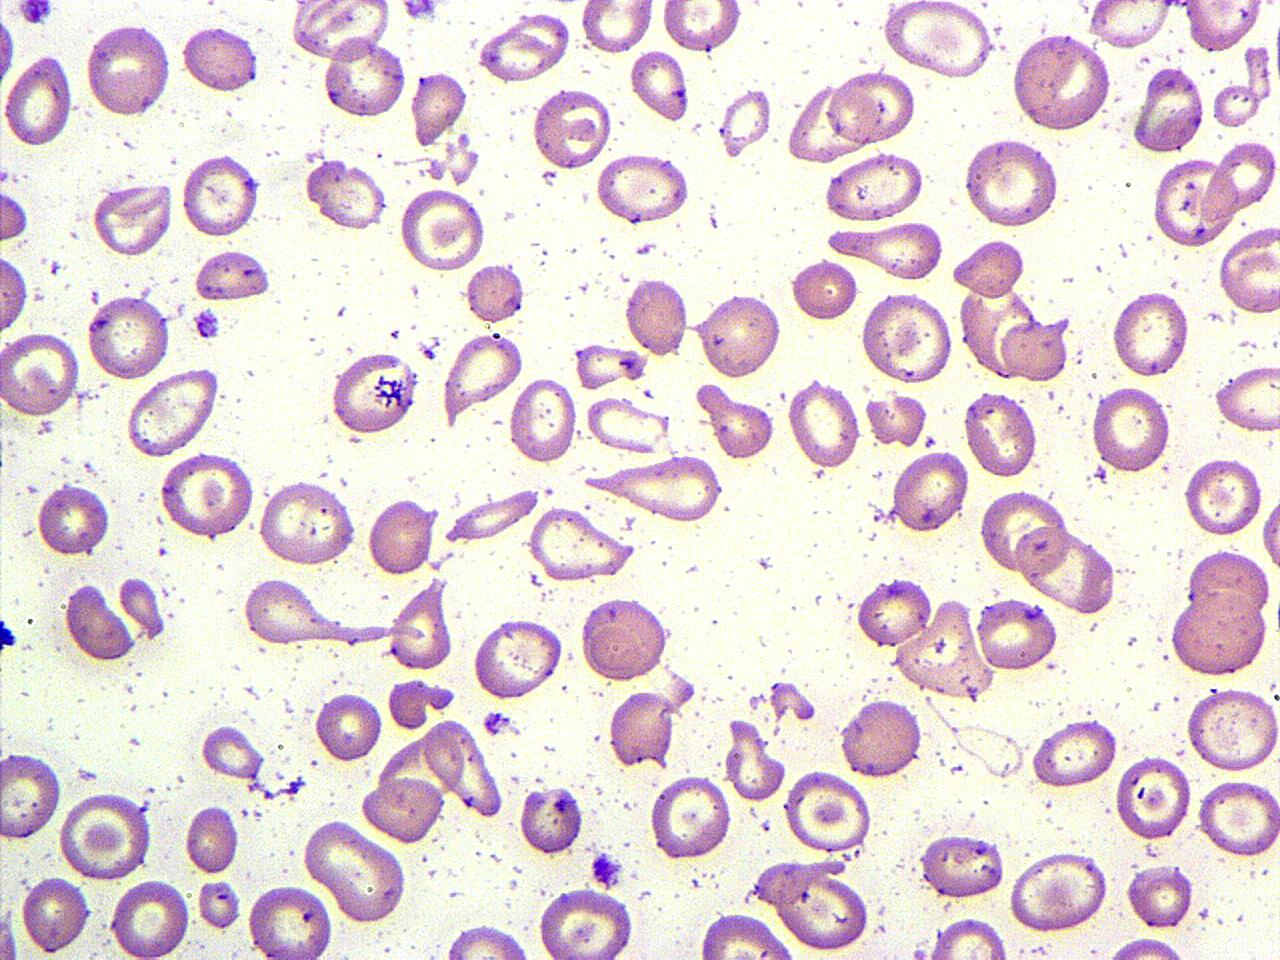Platelets: (190, 306, 223, 341), (590, 852, 620, 887), (15, 0, 54, 26), (480, 708, 513, 738), (398, 0, 439, 23), (0, 618, 18, 652), (634, 241, 656, 256), (290, 774, 308, 789)
RBC: (1011, 29, 1113, 133), (961, 135, 1062, 230), (1013, 522, 1117, 614), (315, 822, 408, 924), (859, 289, 955, 386), (256, 478, 359, 568), (898, 598, 990, 698), (125, 366, 221, 460), (158, 449, 256, 541), (84, 19, 172, 120), (1008, 846, 1110, 934), (880, 1, 995, 79), (1169, 592, 1271, 679), (56, 790, 152, 880), (601, 456, 722, 526), (774, 868, 872, 955), (577, 595, 670, 685), (1185, 684, 1279, 773), (471, 614, 563, 704), (526, 506, 634, 583), (398, 184, 488, 274), (976, 488, 1068, 576), (1152, 154, 1236, 250), (328, 351, 421, 436), (85, 292, 173, 381), (782, 768, 874, 854), (648, 771, 733, 864), (441, 328, 526, 419), (698, 289, 782, 382), (1109, 288, 1193, 379), (1089, 382, 1171, 474), (0, 326, 81, 419), (821, 150, 925, 223), (534, 886, 636, 960), (594, 150, 692, 226), (836, 697, 924, 781), (962, 386, 1040, 480), (1195, 774, 1280, 861), (179, 150, 261, 240), (1114, 753, 1194, 844), (321, 35, 406, 120), (240, 576, 340, 648), (476, 9, 572, 84), (2, 48, 74, 149), (786, 376, 863, 470), (109, 874, 193, 960), (1182, 453, 1264, 541), (89, 178, 175, 260), (891, 446, 971, 534), (530, 87, 612, 172), (245, 882, 335, 960), (1130, 63, 1204, 155), (1184, 546, 1272, 624), (1029, 715, 1119, 791), (826, 69, 916, 144), (974, 596, 1060, 672), (288, 1, 393, 64), (18, 871, 93, 956), (508, 374, 577, 466), (918, 830, 1008, 899), (387, 578, 454, 672), (305, 159, 389, 232), (63, 581, 136, 664), (361, 774, 444, 845), (0, 750, 63, 843), (34, 480, 110, 558), (855, 576, 933, 650), (608, 686, 676, 770), (180, 23, 260, 95), (366, 496, 434, 578), (623, 275, 690, 356), (315, 688, 384, 766), (859, 220, 944, 282), (706, 388, 778, 461), (724, 719, 785, 804), (582, 394, 668, 454), (1211, 136, 1277, 215), (440, 490, 538, 543), (1123, 861, 1197, 930), (518, 781, 584, 858), (1213, 360, 1279, 437), (406, 68, 468, 148), (696, 908, 794, 958), (951, 234, 1026, 299), (1001, 315, 1069, 385), (628, 46, 690, 123), (1220, 236, 1280, 315), (790, 256, 860, 324), (954, 720, 1029, 782), (1182, 0, 1266, 54), (191, 247, 272, 304), (660, 0, 742, 54), (578, 0, 656, 55), (1089, 0, 1174, 50), (303, 817, 362, 890), (717, 84, 773, 159), (922, 914, 1014, 960), (182, 802, 239, 875), (198, 722, 266, 782), (466, 261, 525, 326), (865, 390, 929, 449), (573, 341, 649, 390), (440, 922, 535, 960), (196, 877, 243, 933), (1099, 934, 1197, 960), (0, 249, 29, 337), (768, 678, 818, 728), (386, 676, 431, 730), (1259, 480, 1279, 590), (0, 185, 30, 246), (0, 2, 17, 98)
WBC: (580, 594, 670, 686), (329, 351, 421, 437), (837, 696, 925, 783)
